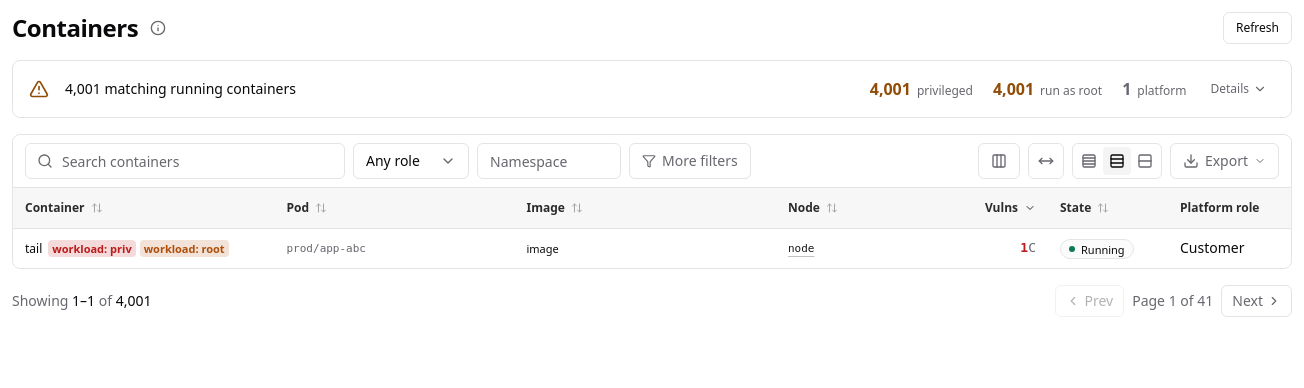
Scenario: reports export failures without a success claim
Press Enter in the button "Export", box x1=1170 y1=143 x2=1279 y2=179
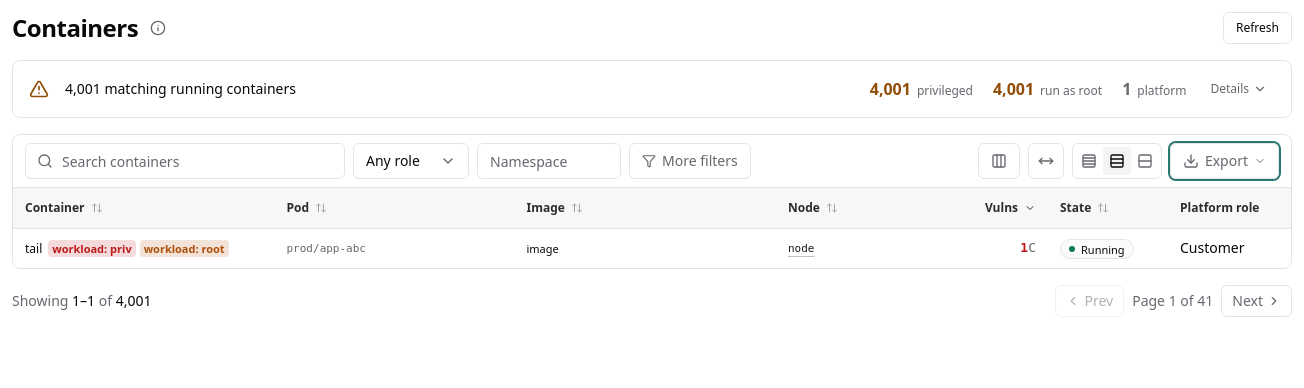
Press Enter in the button "Export", box x1=1170 y1=143 x2=1279 y2=179
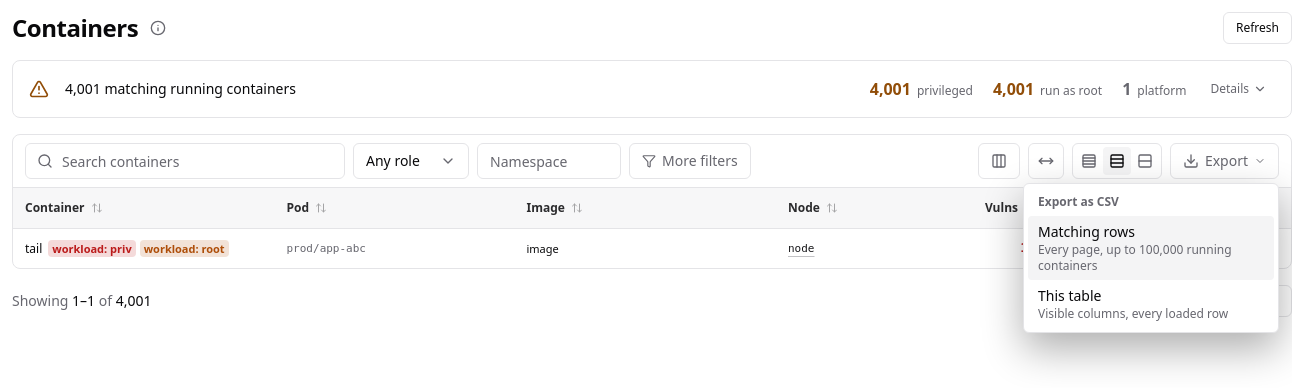
Click the menu item "Matching rows Every page, up to 100,000 running containers" at coordinates (1151, 248), box x1=1028 y1=216 x2=1274 y2=280
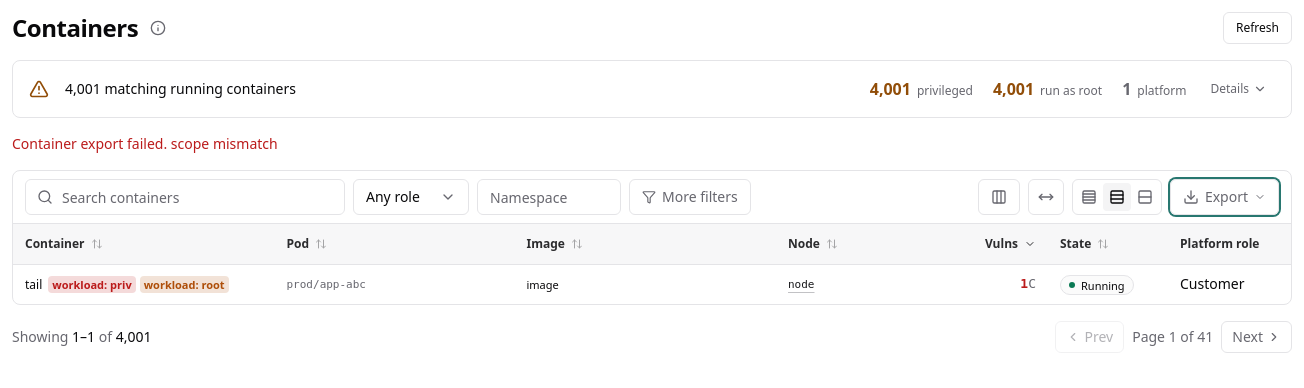
Check: the text "Container export failed" is shown, box x1=12 y1=134 x2=171 y2=153
